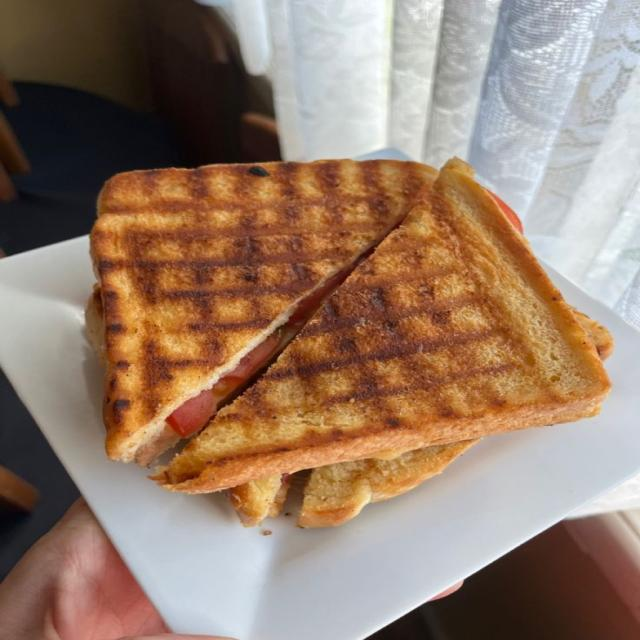toast bread: (156, 160, 609, 493)
